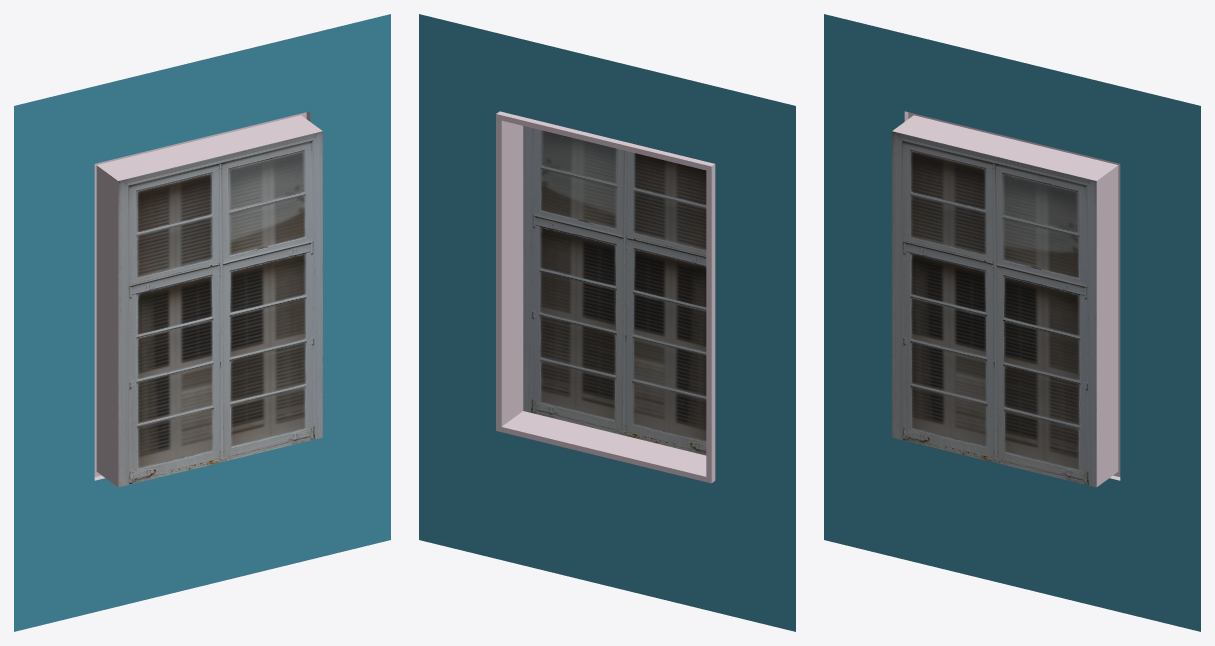
File: FacadeRepeatA.FBX
3 renders of one model, left to right at view 1: azimuth 30°, elevation 25°; view 2: azimuth 150°, elevation 25°; view 3: azimuth 330°, elevation 25°, orthographic.
Visible parts, largest first — view 1: FacadeRepeatA_Wall, FacadeRepeatA_Window; view 2: FacadeRepeatA_Wall, FacadeRepeatA_Window; view 3: FacadeRepeatA_Wall, FacadeRepeatA_Window.
Part boxes in pixels (x1=…): FacadeRepeatA_Wall: x1=14, y1=14, x2=390, y2=631; FacadeRepeatA_Window: x1=118, y1=131, x2=322, y2=487; FacadeRepeatA_Wall: x1=419, y1=14, x2=795, y2=631; FacadeRepeatA_Window: x1=523, y1=126, x2=706, y2=455; FacadeRepeatA_Wall: x1=824, y1=14, x2=1200, y2=631; FacadeRepeatA_Window: x1=892, y1=131, x2=1096, y2=487.
Size of the model in its own units: 300 by 400 by 30.
